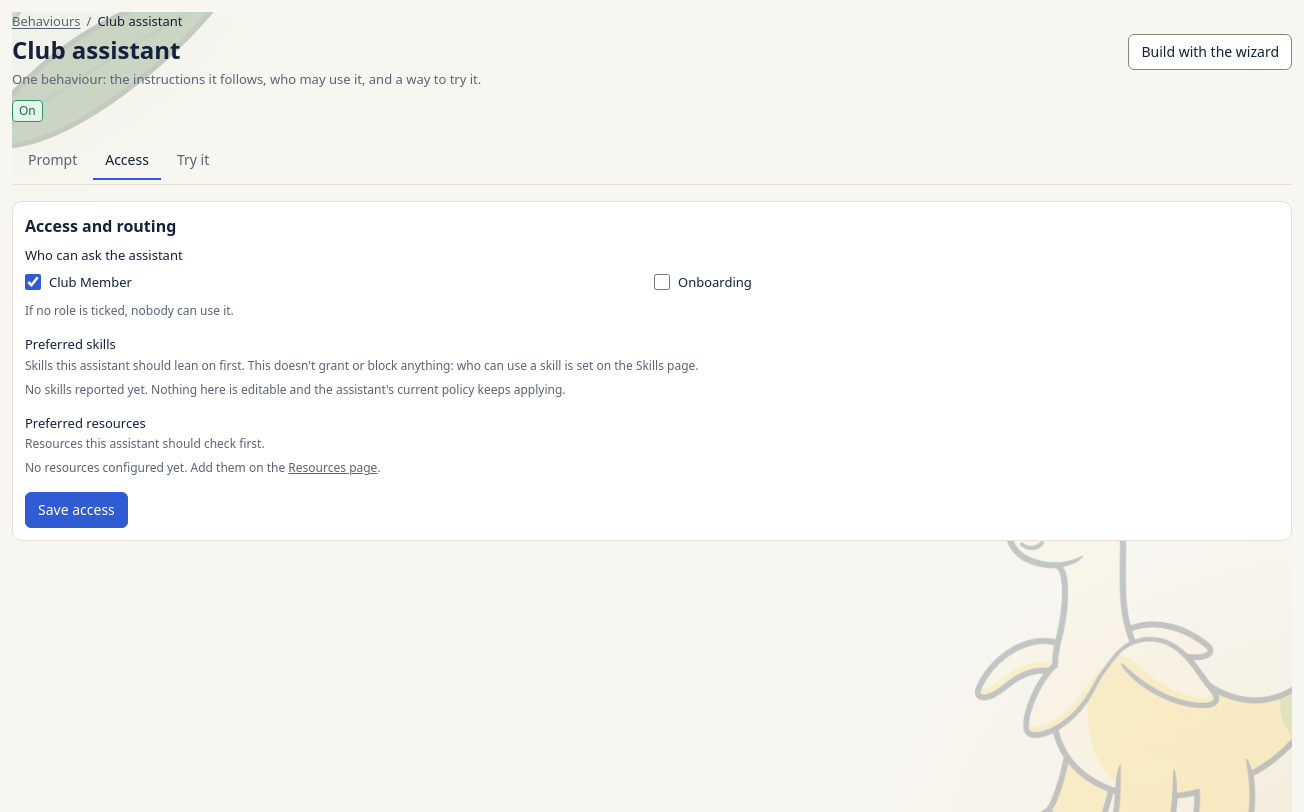
Test: AssistantBehaviourDetailPage › keeps a pending access save and its result across tab switches
Click the checkbox labelled "Onboarding" at (662, 282), box left=654, top=274, right=670, bottom=290
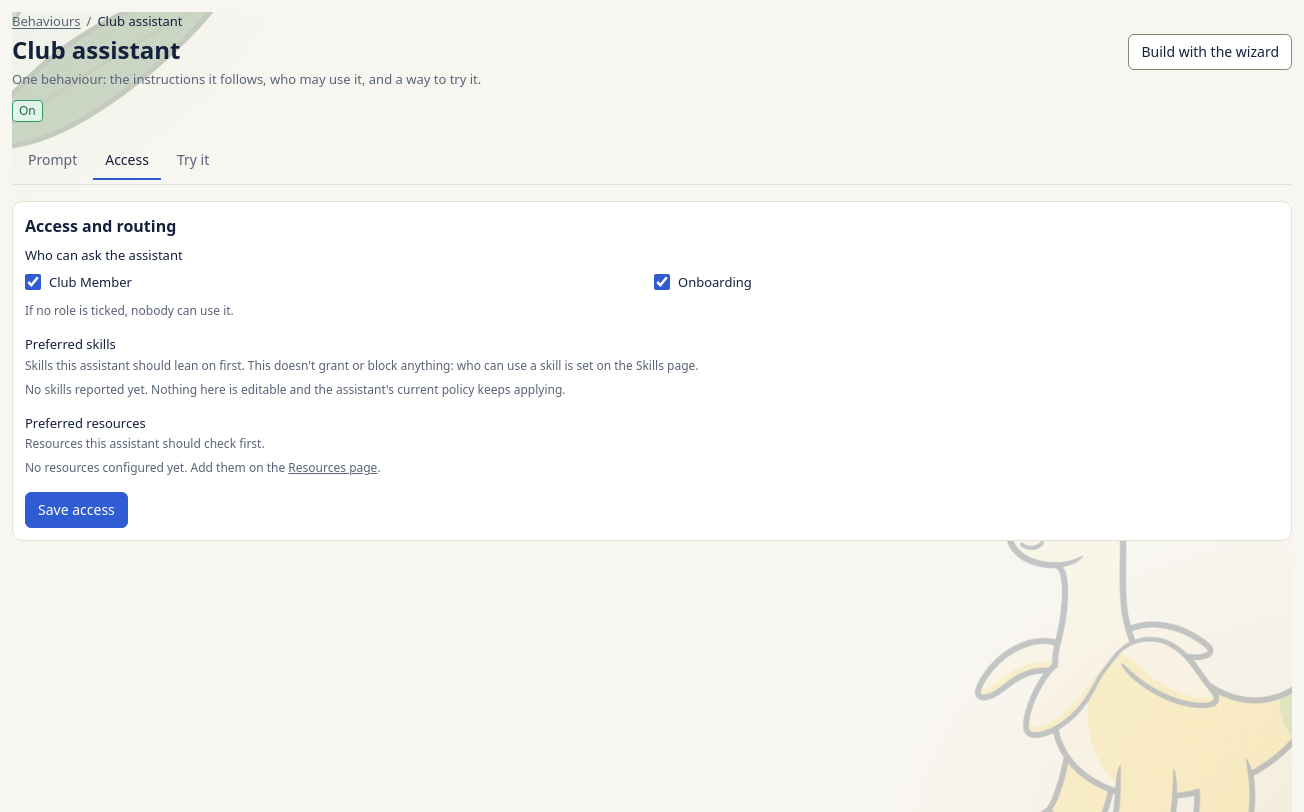
Click the button "Save access" at (76, 510), box left=25, top=492, right=128, bottom=528
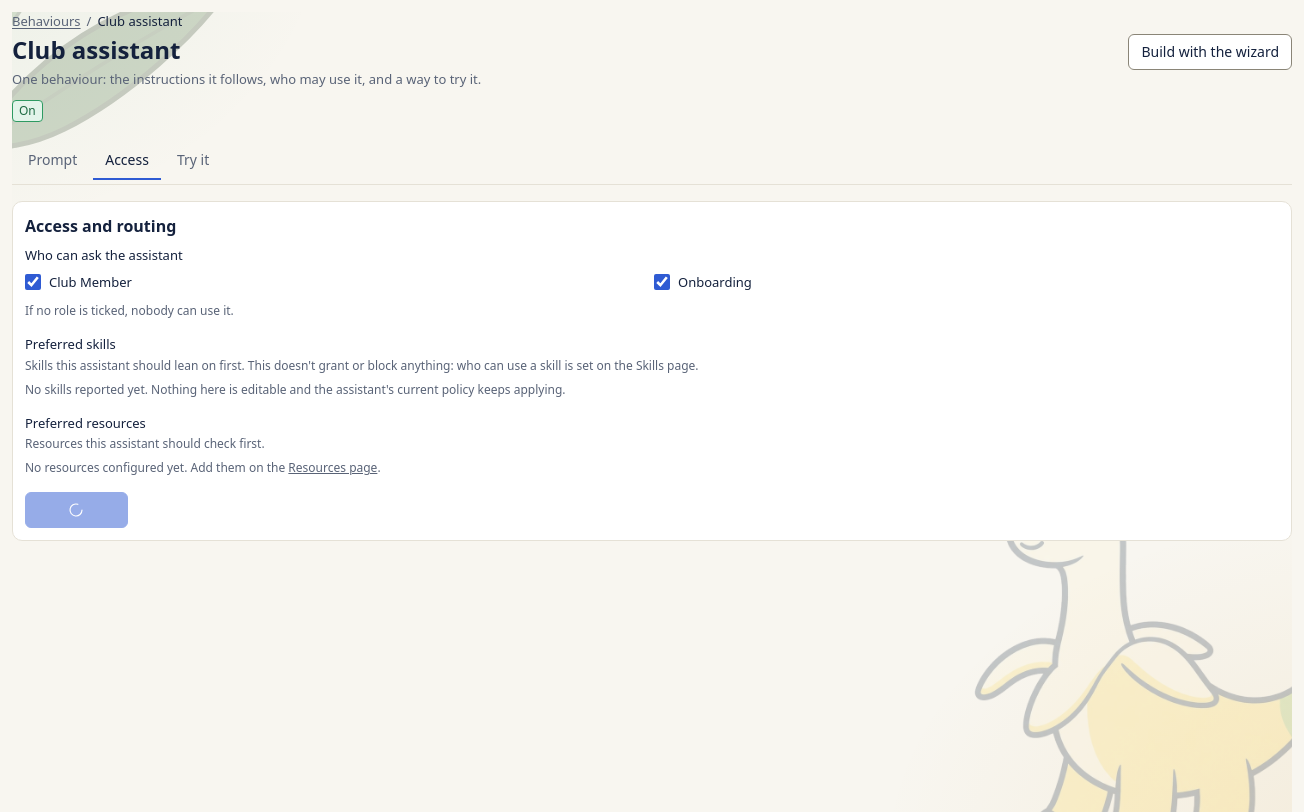
Press the mouse on the tab "Prompt" at (53, 161), box left=16, top=142, right=89, bottom=180
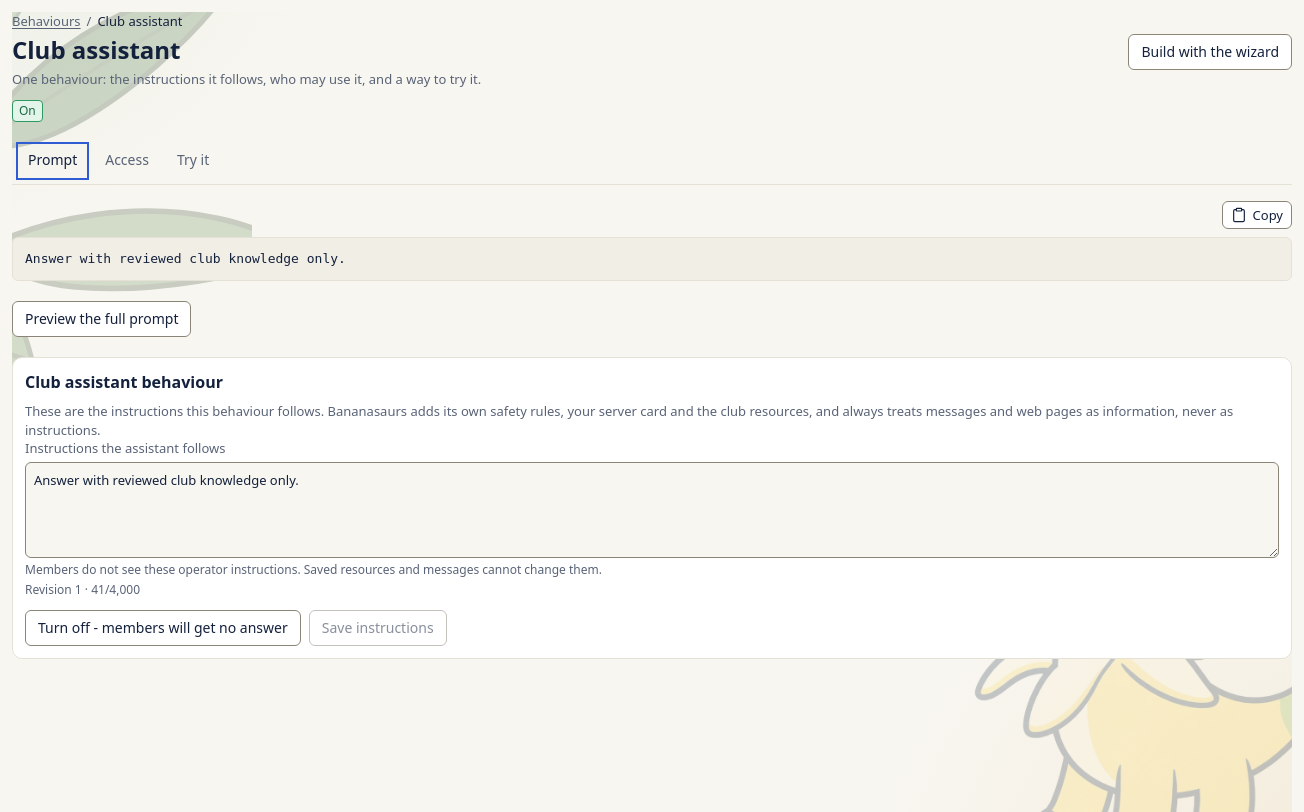
Press the mouse on the tab "Access" at (127, 161), box left=93, top=142, right=161, bottom=180
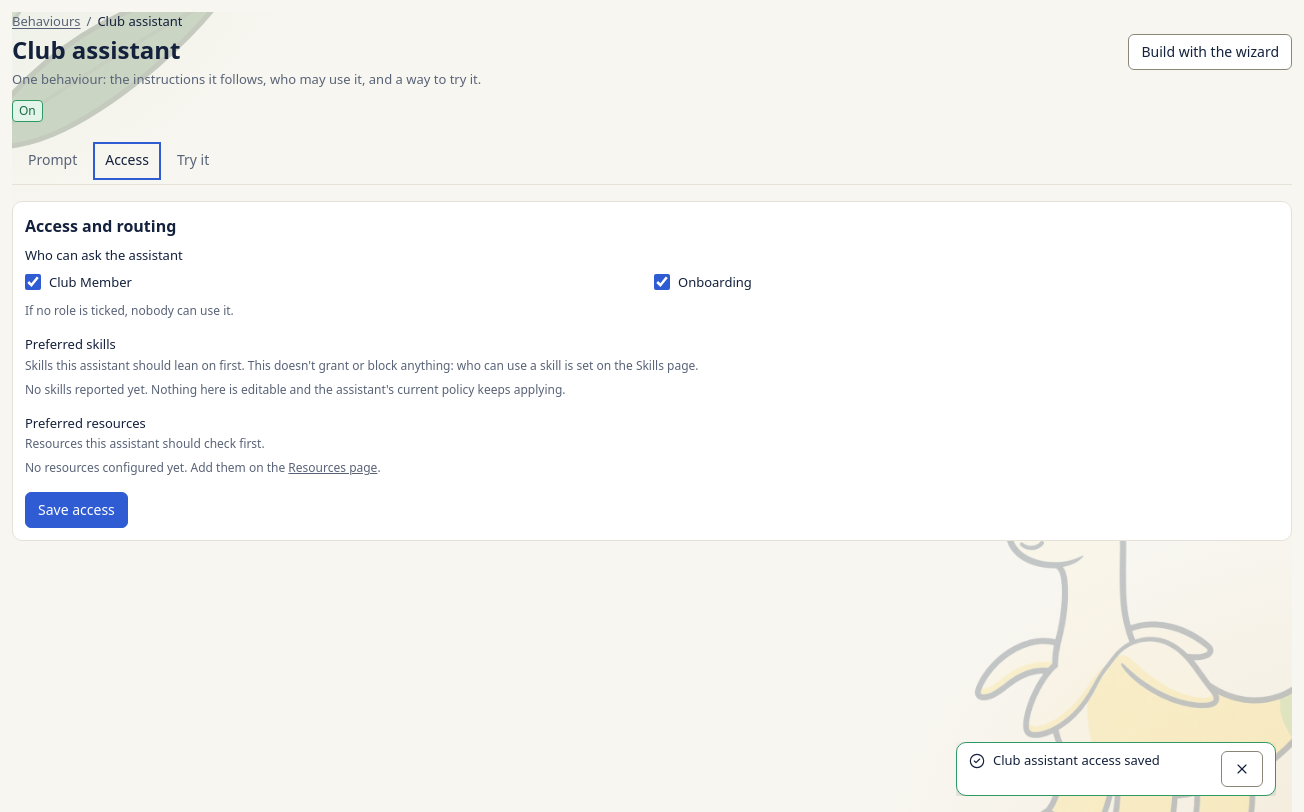
Expected: the checkbox labelled "Onboarding" is checked, left=654, top=274, right=670, bottom=290
Expected: the text "Club assistant access saved" is shown, left=993, top=751, right=1160, bottom=769
